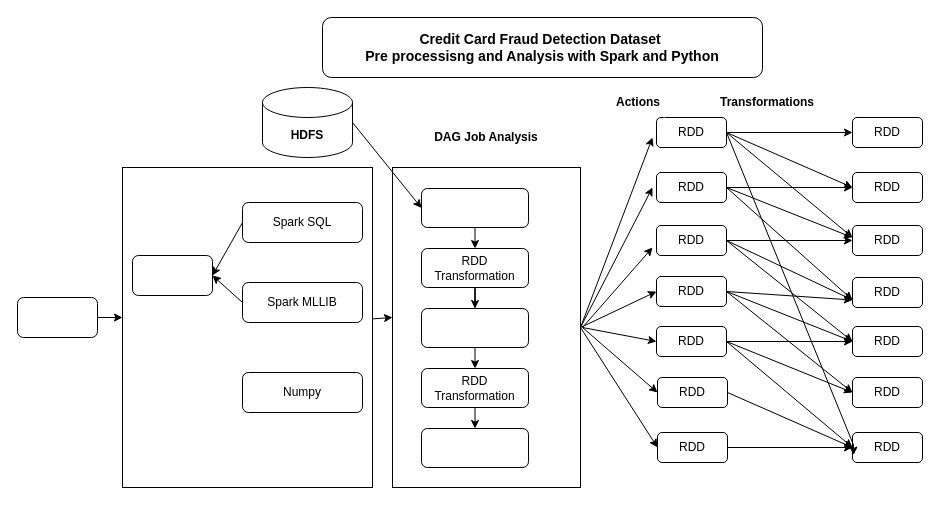
Some shapes in this 940 by 505 pixel diagram are drawn without their labels. The shapes that lost their labels are listed below. From the top down, each one's centre as x and y in pixels, then its label:
(474,208): RDD Creation
(172,275): Spark
(57,317): Algorithm
(474,328): RDD Actions
(474,448): RDD Output Actions
